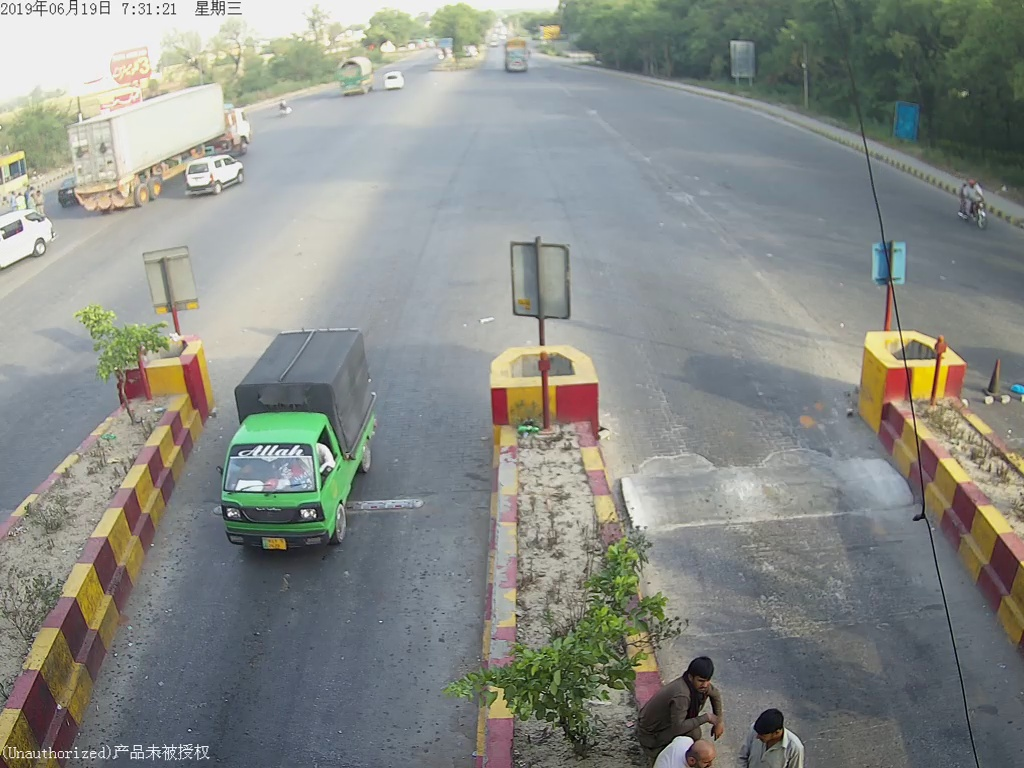Cat-1: (214, 320, 392, 569)
